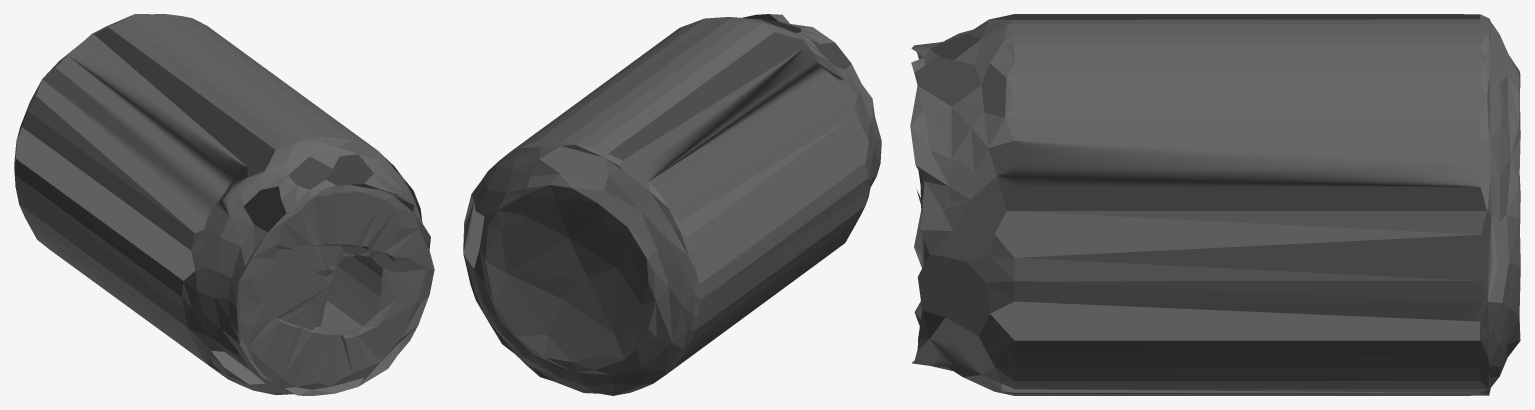
Rendered from model_align.obj.
The picture shows the model from 3 angles, left to right: view 1: azimuth 30°, elevation 25°; view 2: azimuth 150°, elevation 25°; view 3: azimuth 270°, elevation 25°; orthographic projection. The views are drawn at different scales.
Size of the model in its own units: 0.0619 by 0.0619 by 0.0985.
